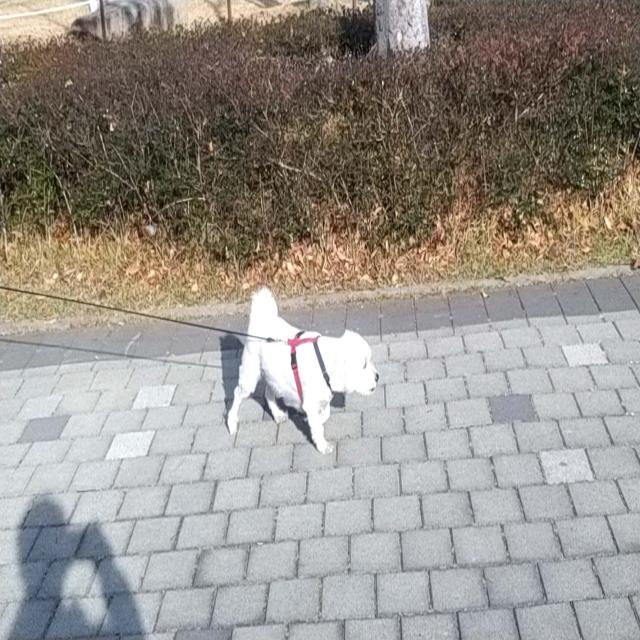Dog: (226, 285, 379, 455)
